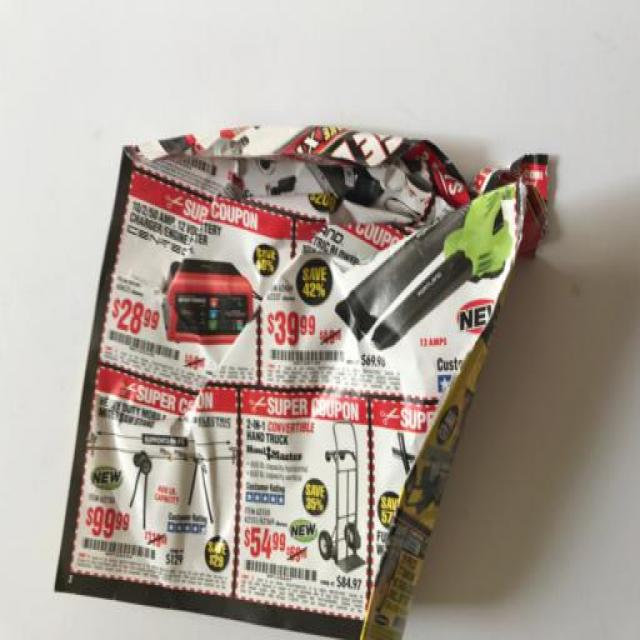paper: (30, 102, 552, 640)
